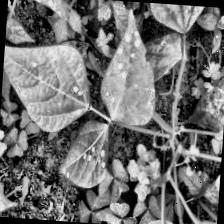Bean Rust: (0, 42, 92, 132), (99, 4, 162, 130), (65, 118, 114, 188), (146, 3, 209, 40), (0, 178, 15, 217)
